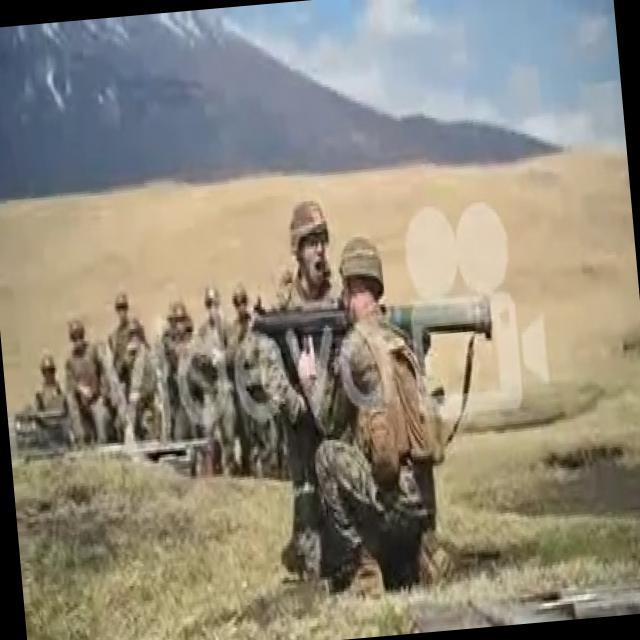rocket: (252, 284, 492, 358)
